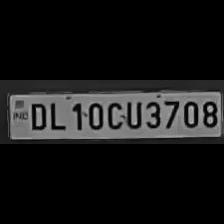0: (180, 98, 200, 128), (86, 99, 104, 130)
1: (66, 99, 86, 130)
3: (142, 98, 162, 130)
7: (162, 98, 178, 128)
8: (200, 98, 218, 128)
C: (104, 98, 122, 130)
D: (26, 99, 48, 130)
L: (47, 99, 65, 130)
U: (122, 98, 142, 130)
